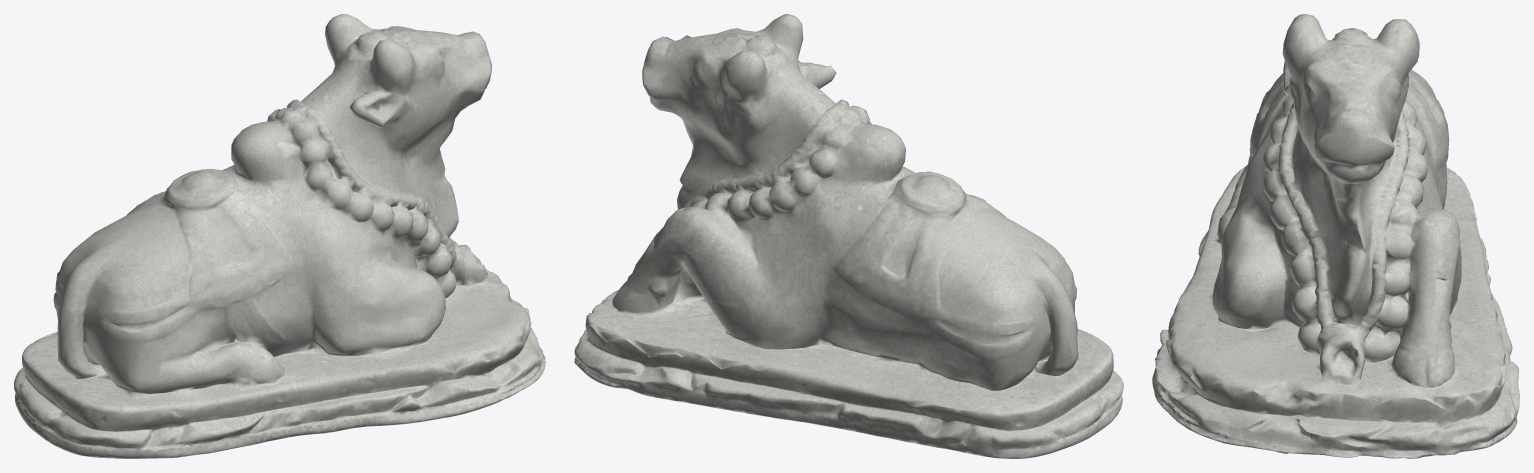
File: Nandi.glb
3 renders of one model, left to right at view 1: azimuth 30°, elevation 25°; view 2: azimuth 150°, elevation 25°; view 3: azimuth 270°, elevation 25°, orthographic. The views are drawn at different scales.
Parts seen in each view (by area): view 1: tripo_node_7f317d2b-736c-4c68-bb01-ed0dcbedbae1; view 2: tripo_node_7f317d2b-736c-4c68-bb01-ed0dcbedbae1; view 3: tripo_node_7f317d2b-736c-4c68-bb01-ed0dcbedbae1.
Boxes of the visible parts, box(x1,y1,x2,y2) form: tripo_node_7f317d2b-736c-4c68-bb01-ed0dcbedbae1: box(14, 14, 545, 458); tripo_node_7f317d2b-736c-4c68-bb01-ed0dcbedbae1: box(574, 14, 1123, 458); tripo_node_7f317d2b-736c-4c68-bb01-ed0dcbedbae1: box(1152, 14, 1519, 458).
Bounding box in the file's own units: 0.481 × 0.3132 × 0.286.
Materials: 1 (1 with a texture image).
